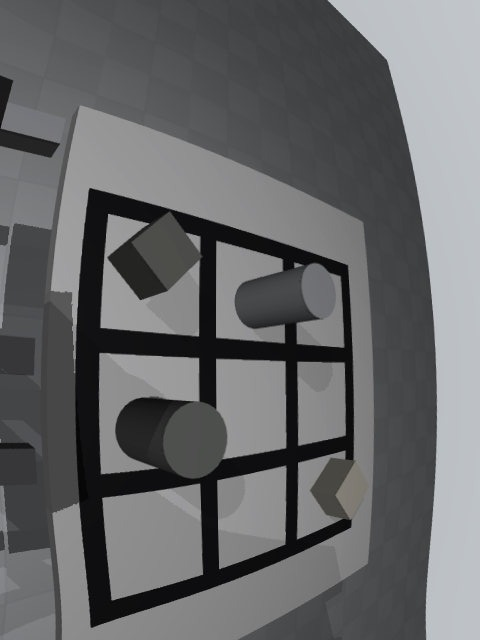can: (235, 263, 336, 328)
cube: (107, 211, 202, 300)
cylinder: (115, 397, 227, 479)
foam: (310, 458, 369, 520)
